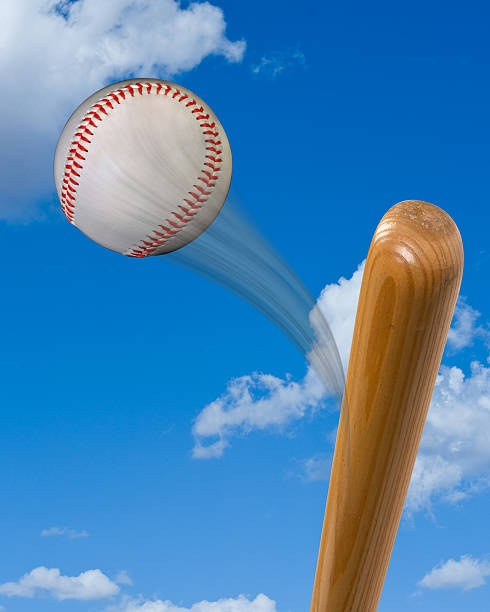bita: (302, 203, 455, 611)
